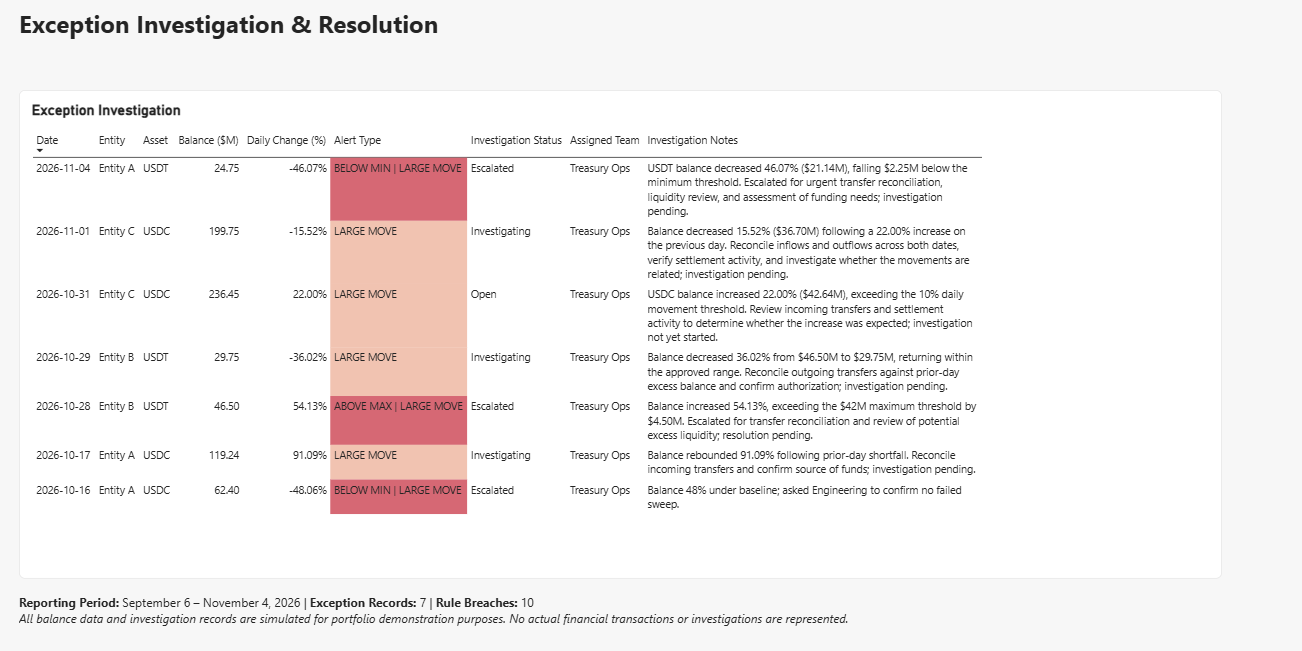

Layout of this report page (visuals, bound fields, positions):
{"tool":"powerbi","page":{"name":"Exception Investigation","canvas":[1920,1080],"ordinal":1},"visuals":[{"type":"tableEx","title":"Exception Investigation","fields":{"Values":["Balances_PBI.Date","Balances_PBI.Entity","Balances_PBI.Asset","Sum(Balances_PBI.Balance_M)","Sum(Balances_PBI.Daily_Change_Pct)","Balances_PBI.Alert_Detail","Balances_PBI.Followup_Status","Balances_PBI.Owner","Balances_PBI.Notes"]},"box":[60.4,150,1600,650],"z":0},{"type":"textbox","box":[60,40,1110,60],"z":1},{"type":"textbox","box":[60,820,1450,90],"z":2}]}

Visuals, with their boxes on the page's 1920x1080 design canvas (x1, y1, x2, y2). These are canvas units, not pixel positions in the 1302x651 screenshot, which may show the page scaled, cropped or inside an application window:
"Exception Investigation" tableEx: 60, 150, 1660, 800
textbox: 60, 40, 1170, 100
textbox: 60, 820, 1510, 910
